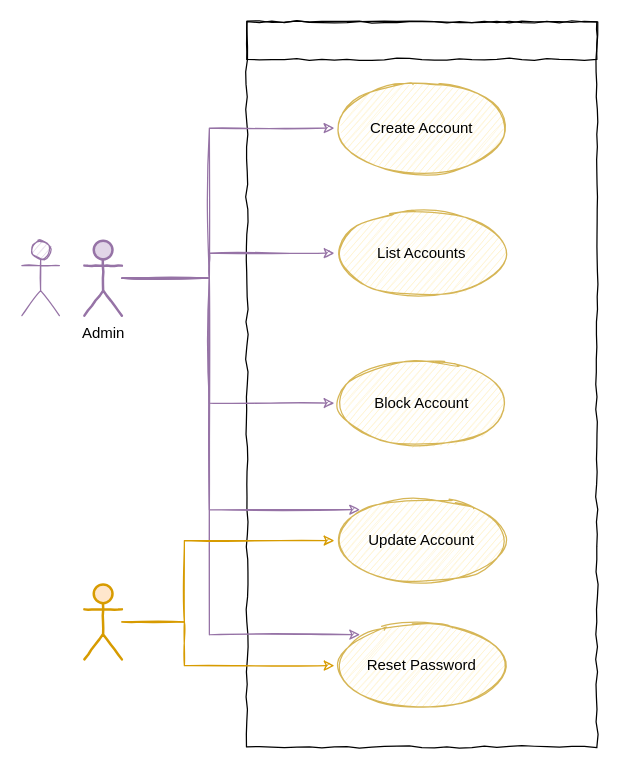
This 619x769 diagram has some shape labels left out. Here are the shapes that lost their labels. From the top down, the box of each, then its label:
(246, 21, 597, 59): User Management Service
(21, 239, 59, 316): Staff
(82, 582, 122, 660): Participant
